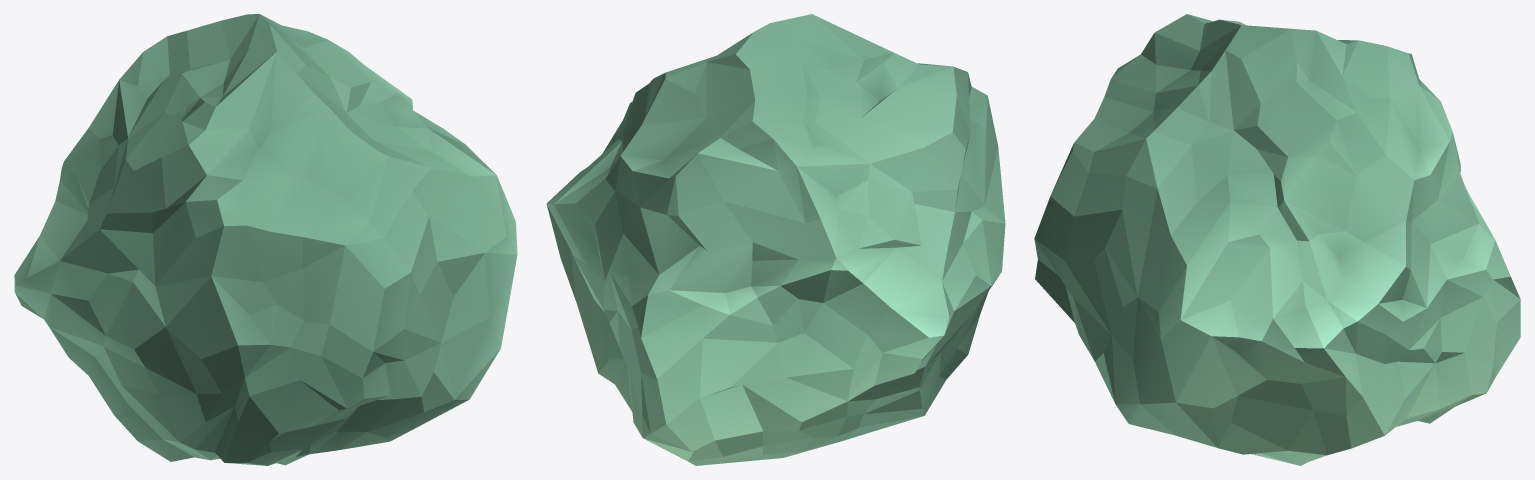
File: snowparticle_anim_3_7_neg1.glb
The picture shows the model from 3 angles, left to right: view 1: azimuth 30°, elevation 25°; view 2: azimuth 150°, elevation 25°; view 3: azimuth 270°, elevation 25°; orthographic projection.
Visible parts, largest first — view 1: snowparticle_anim_3_7_neg1; view 2: snowparticle_anim_3_7_neg1; view 3: snowparticle_anim_3_7_neg1.
Boxes of the visible parts, x1=… form: snowparticle_anim_3_7_neg1: x1=14, y1=14, x2=517, y2=465; snowparticle_anim_3_7_neg1: x1=546, y1=14, x2=1005, y2=465; snowparticle_anim_3_7_neg1: x1=1034, y1=14, x2=1520, y2=465.
Bounding box in the file's own units: 660 × 610 × 665.
